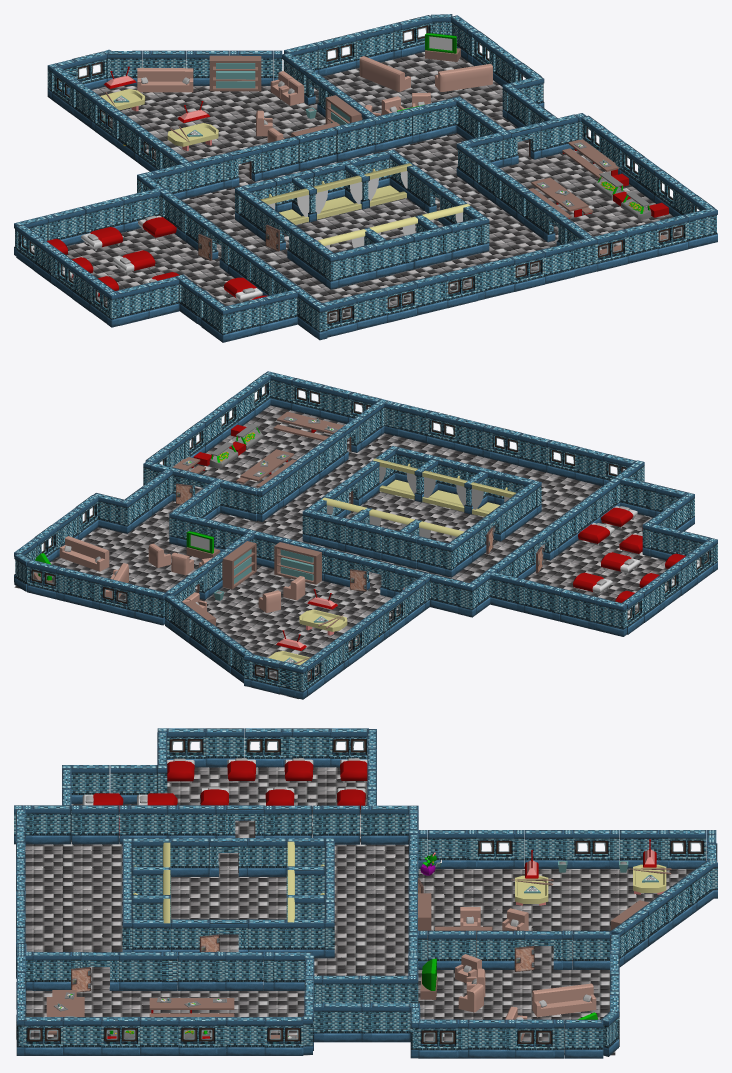
File: MentalWard.fbx
3 views of the same model, one above another, from view 1: azimuth 30°, elevation 25°; view 2: azimuth 150°, elevation 25°; view 3: azimuth 270°, elevation 25° (orthographic). The views are drawn at different scales.
Visible parts, largest first — view 1: polySurface44; view 2: polySurface44; view 3: polySurface44.
Boxes of the visible parts, x1=… form: polySurface44: x1=14, y1=14, x2=717, y2=342; polySurface44: x1=14, y1=371, x2=717, y2=699; polySurface44: x1=14, y1=728, x2=717, y2=1058.
Size of the model in its own units: 72.58 by 5.49 by 73.05.
